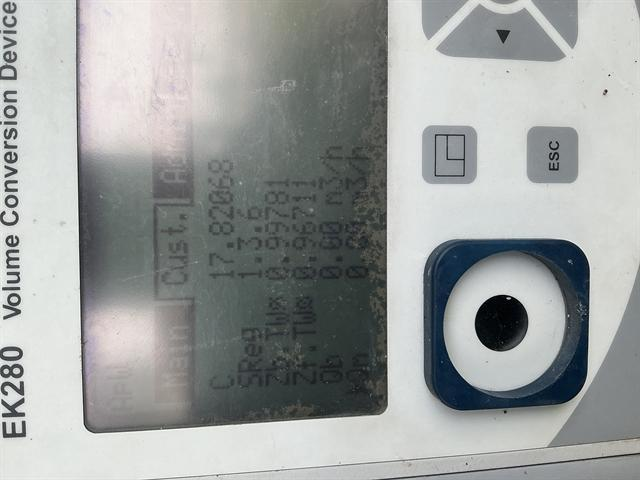digital_screen: (76, 0, 387, 429)
